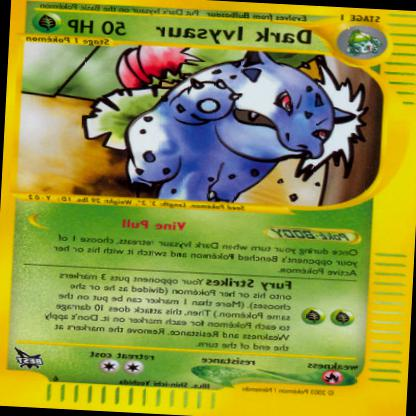Ivysaur: (73, 44, 328, 205)
